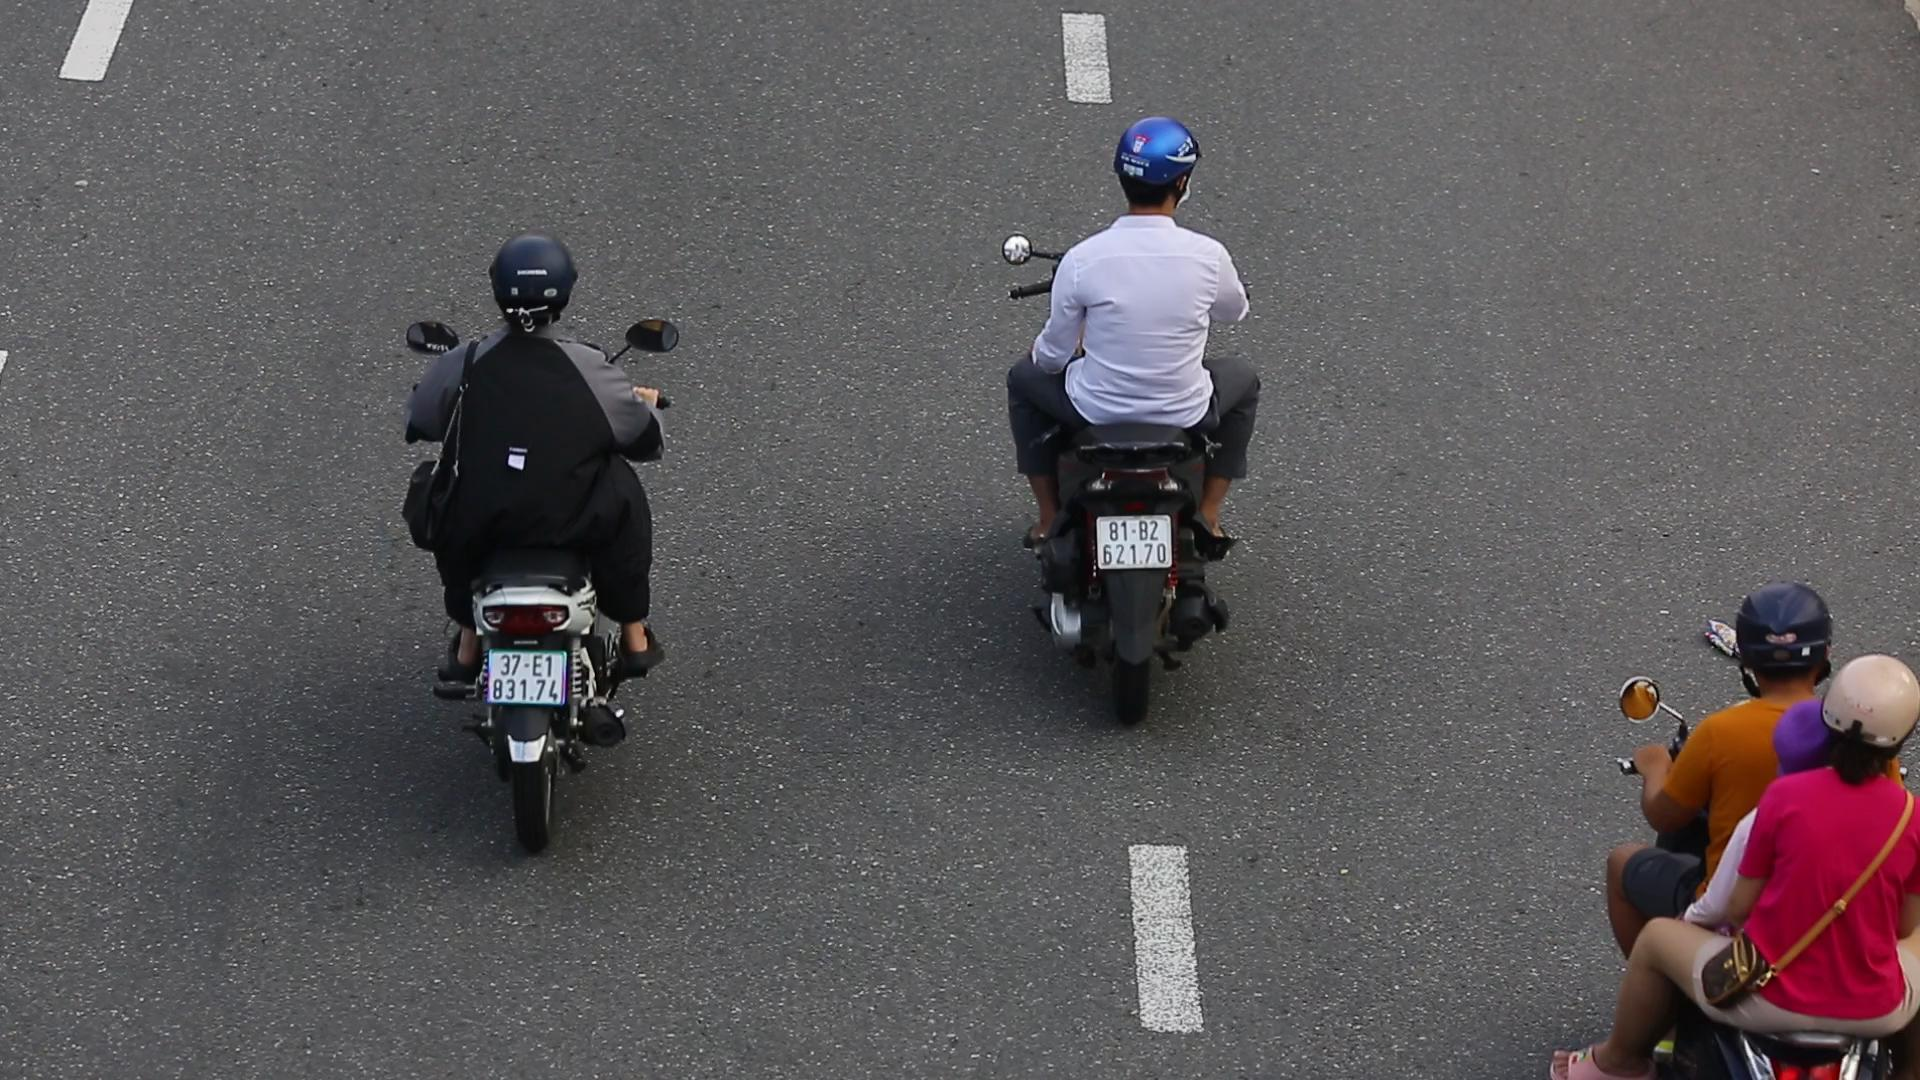motobike: (390, 198, 694, 858), (952, 98, 1263, 740)
